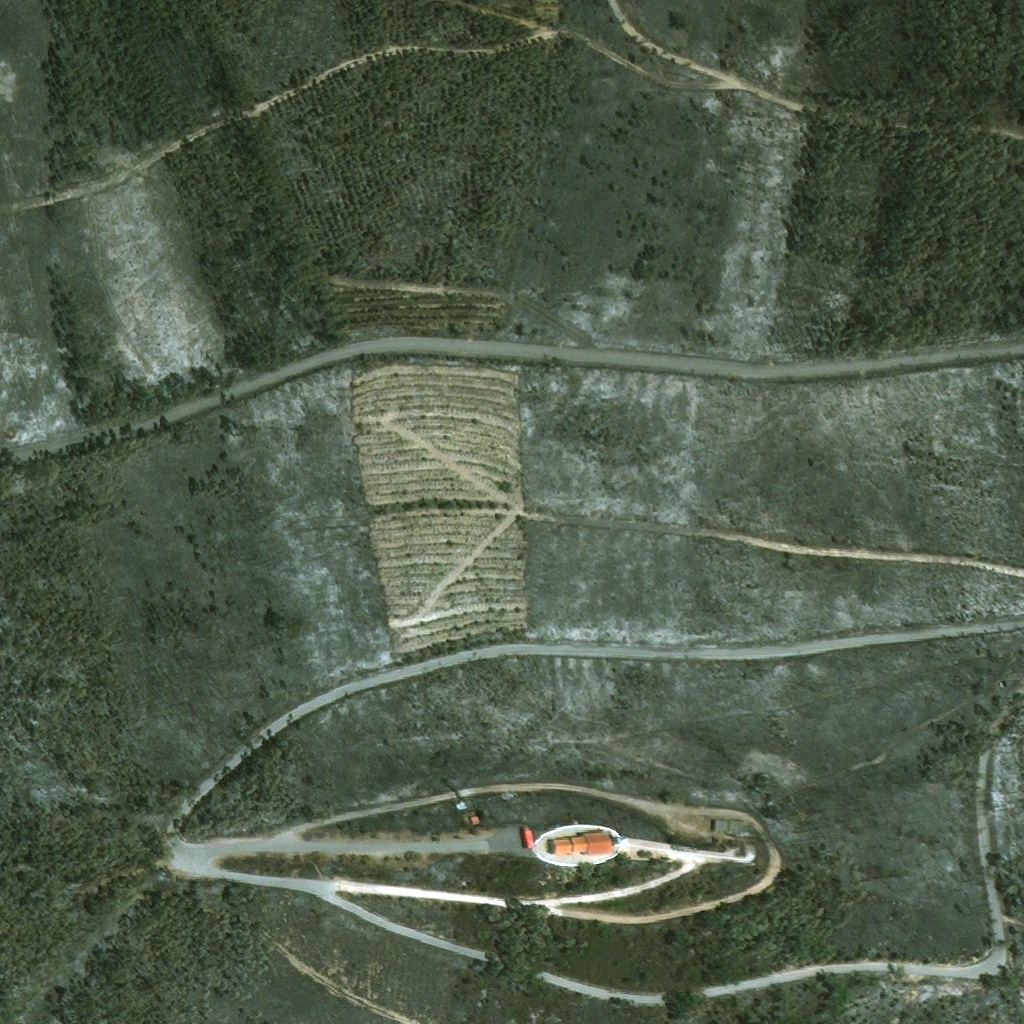0 no-damage: (546, 828, 616, 854), (715, 819, 749, 831), (470, 812, 482, 824)
3 destroyed: (455, 800, 470, 811)
